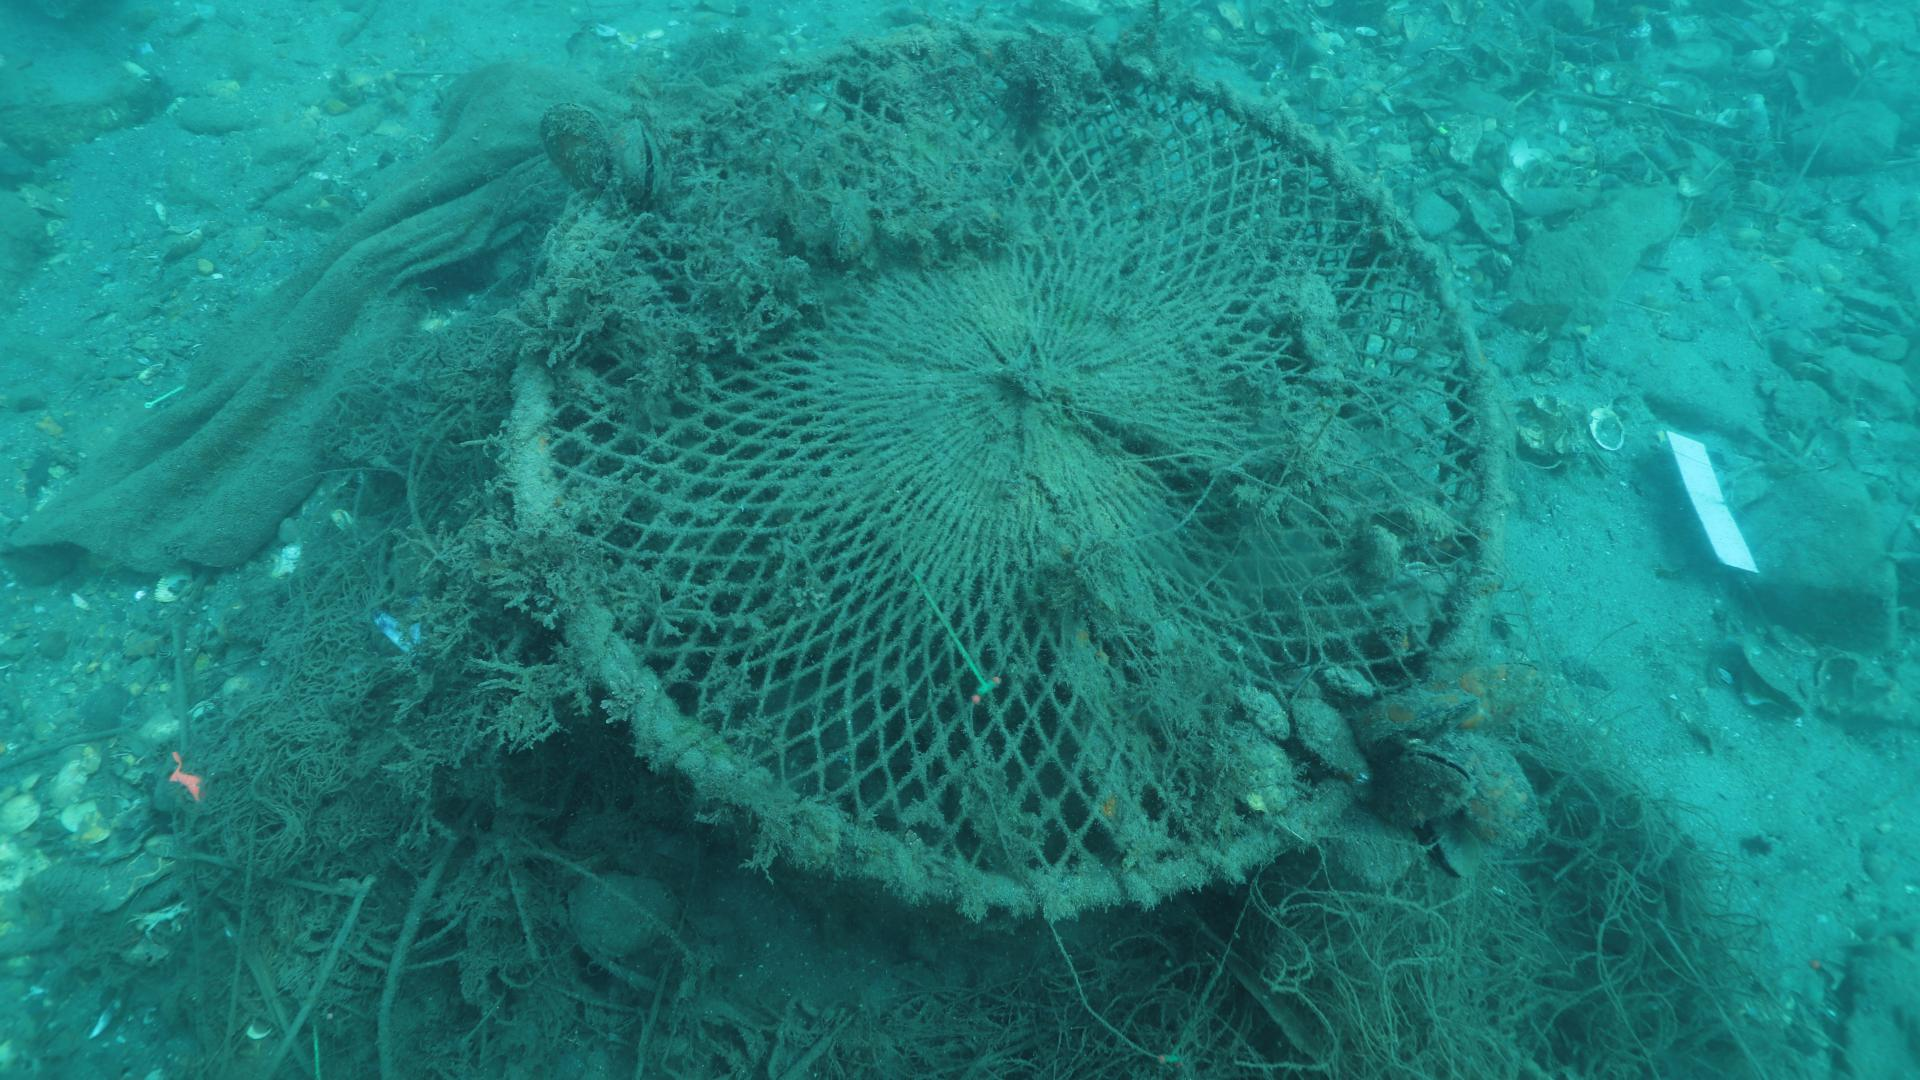circular fish trap: (512, 22, 1519, 918)
